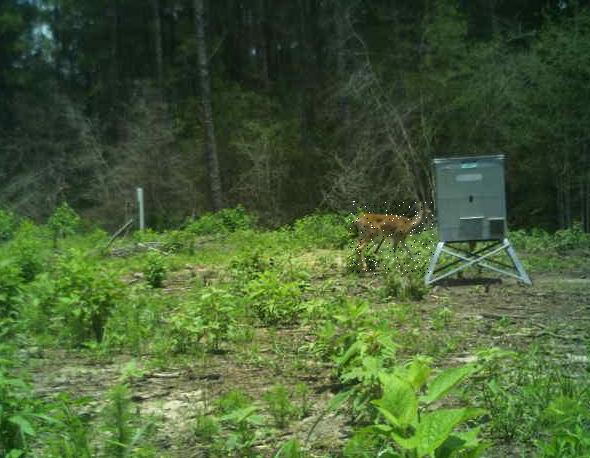Deer: (348, 202, 433, 276)
